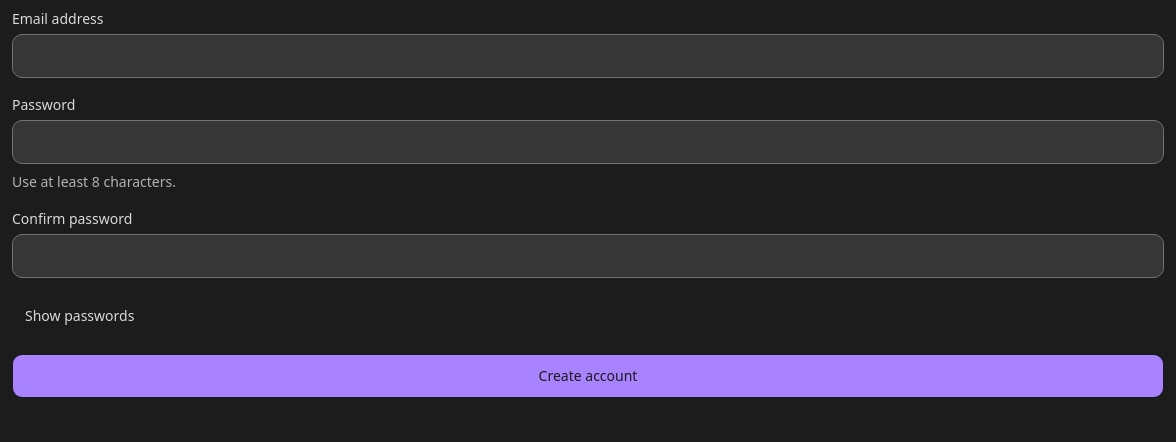
Scenario: RegistrationForm › stops before registration when the passwords do not match
This screenshot has width=1176, height=442.
In the field labelled "Email address": (588, 56) [12,34,1164,78], type "customer@example.test"
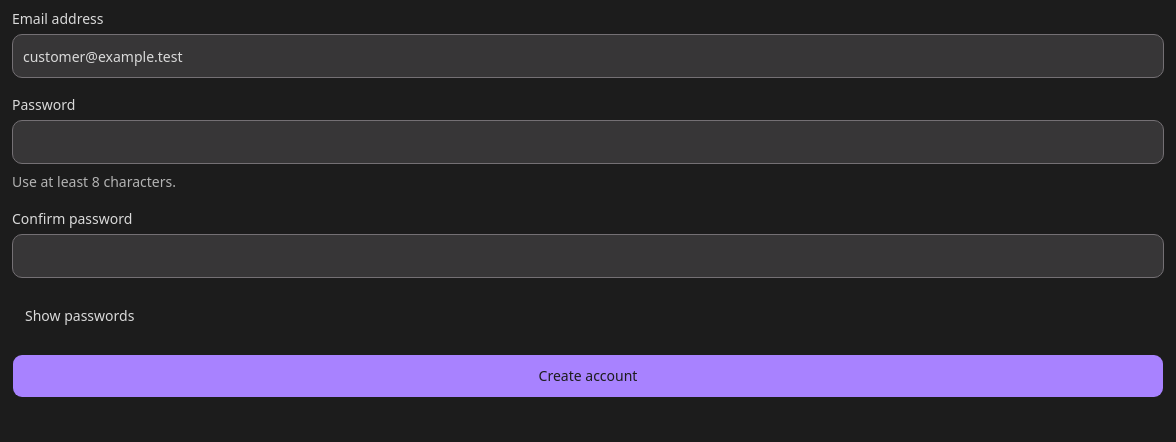
In the password field labelled "Password": (588, 142) [12,120,1164,164], type "a-long-customer-password"
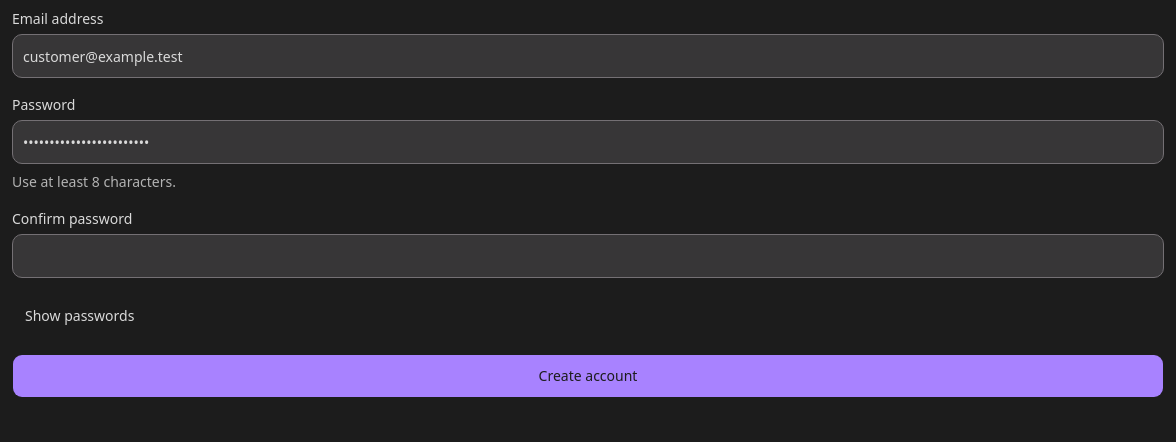
In the password field labelled "Confirm password": (588, 256) [12,234,1164,278], type "a-different-password"
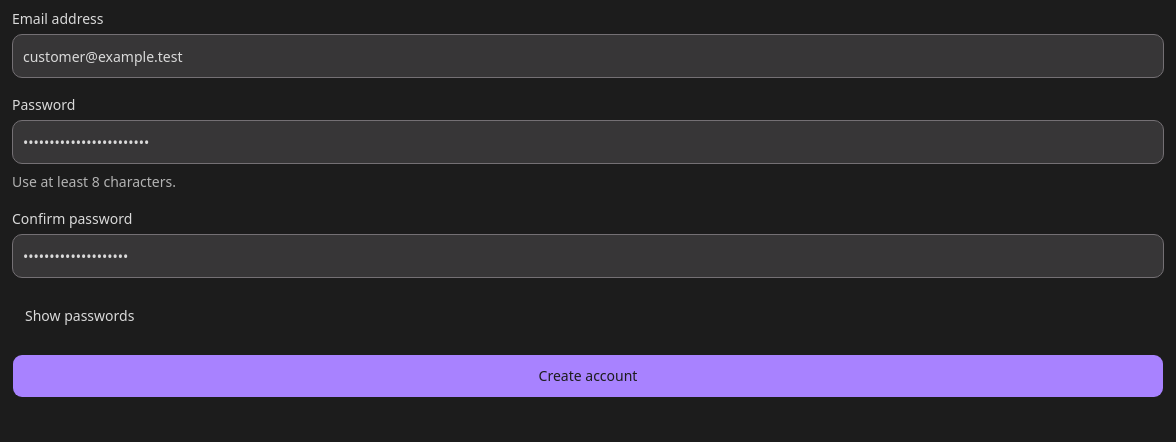
Click the button "Create account": (588, 376) [12,354,1164,398]
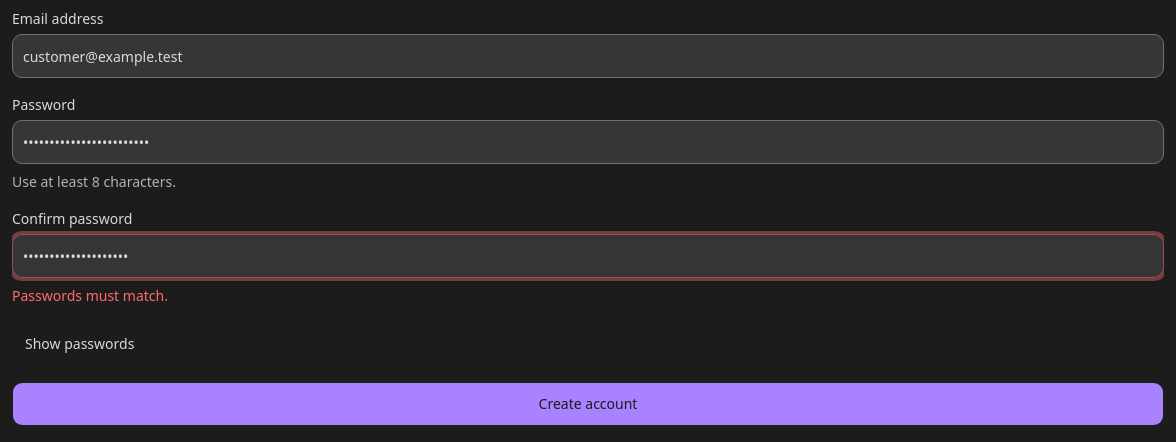
Expected: the message reads "Passwords must match.", [12,286,168,305]
